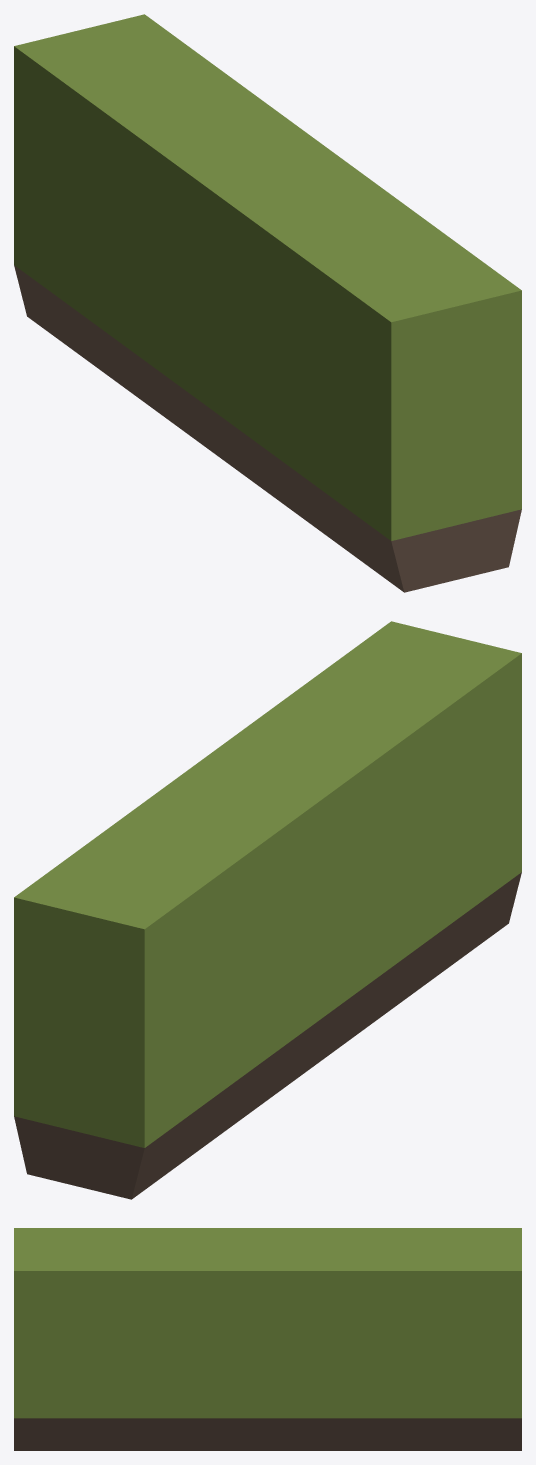
File: grass-fence_02.fbx
The picture shows the model from 3 angles, top to bottom: view 1: azimuth 30°, elevation 25°; view 2: azimuth 150°, elevation 25°; view 3: azimuth 270°, elevation 25°; orthographic projection. The views are drawn at different scales.
Visible parts, largest first — view 1: grass-fence_02; view 2: grass-fence_02; view 3: grass-fence_02.
Part boxes in pixels (x1,y1,x2,y2): grass-fence_02: (14, 14, 521, 592); grass-fence_02: (14, 621, 521, 1199); grass-fence_02: (14, 1228, 521, 1450).
Size of the model in its own units: 50 by 100 by 250.
